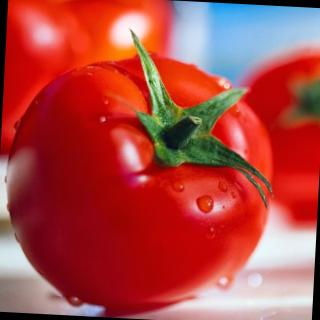Tomat: (119, 29, 283, 211), (1, 1, 178, 163), (229, 41, 320, 230), (56, 1, 177, 70), (197, 195, 216, 215)
